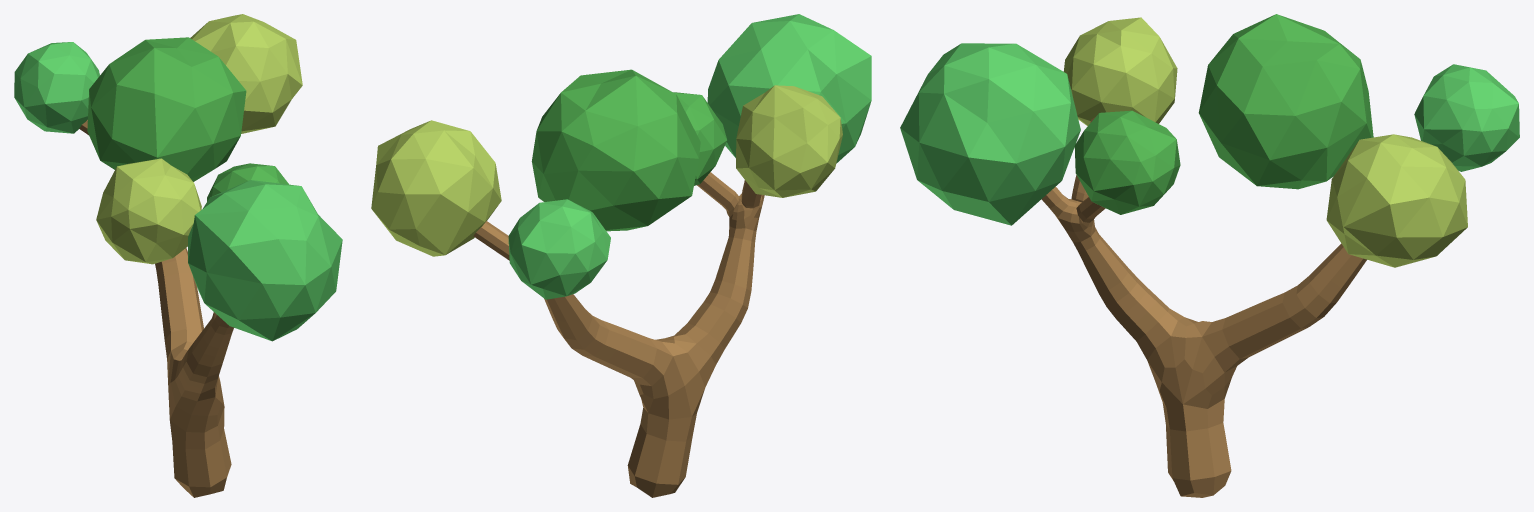
File: Groene boom.fbx
3 views of the same model, side by side, from view 1: azimuth 30°, elevation 25°; view 2: azimuth 150°, elevation 25°; view 3: azimuth 270°, elevation 25° (orthographic). The views are drawn at different scales.
Parts seen in each view (by area): view 1: Icosphere.005; view 2: Icosphere.005; view 3: Icosphere.005.
Part boxes in pixels (<box>): Icosphere.005: <box>14,14,342,497</box>; Icosphere.005: <box>371,14,871,497</box>; Icosphere.005: <box>900,14,1519,497</box>.
Size of the model in its own units: 264 by 342 by 405.
